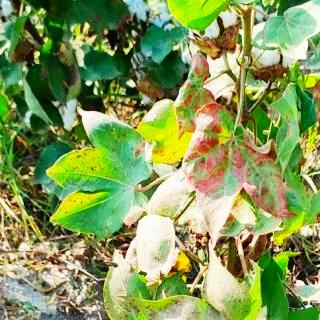blight: (184, 94, 298, 246)
leaf spot: (39, 95, 158, 242)
